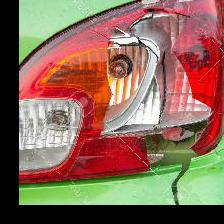tail_lamp: (55, 0, 224, 187)
